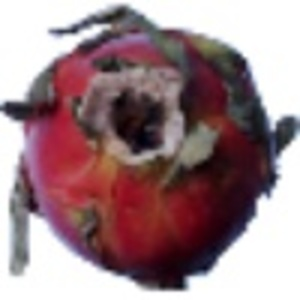pitaia: (1, 4, 300, 292)
